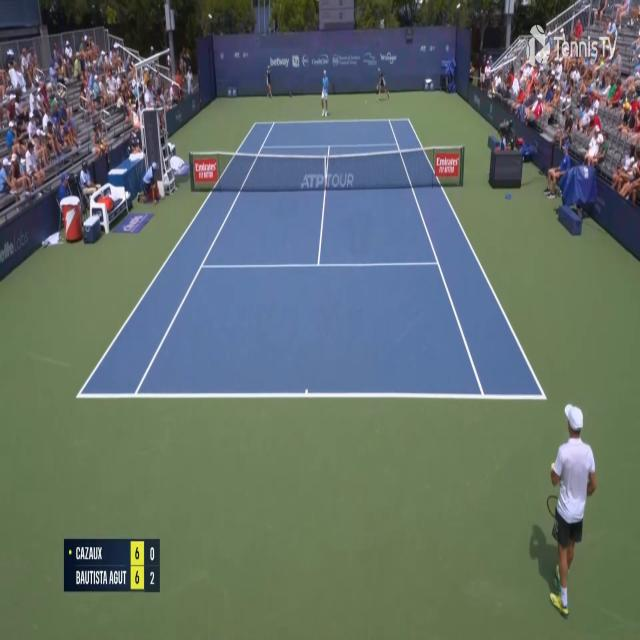tennis-player: (527, 400, 598, 619), (320, 67, 332, 118)
